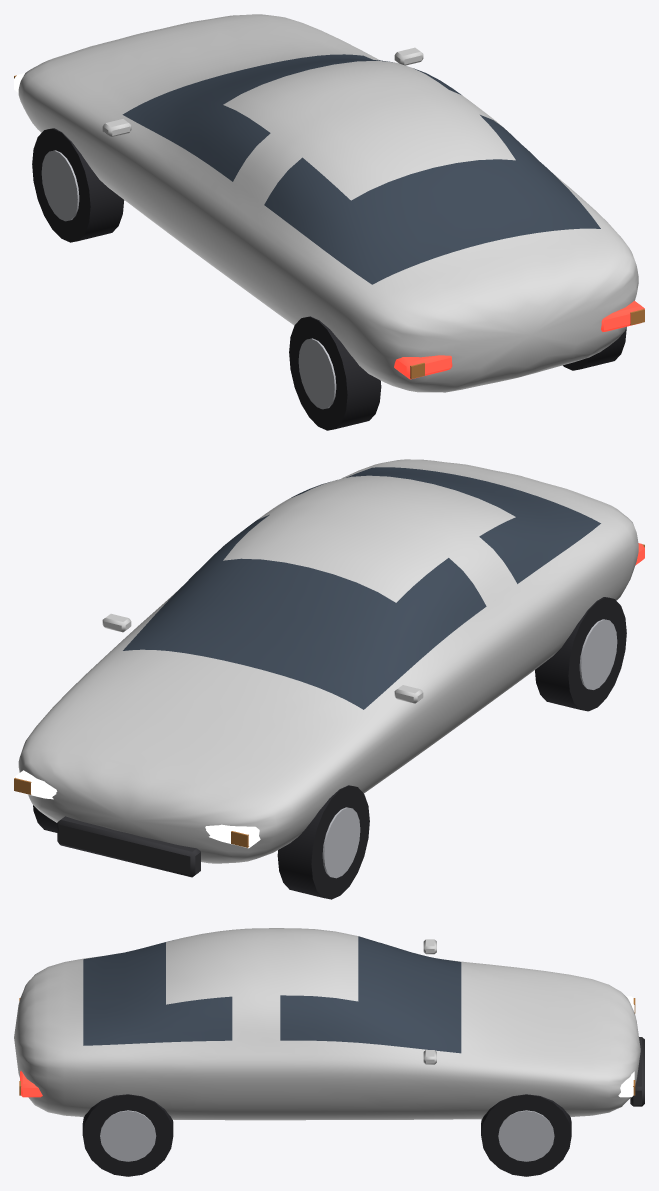
The model's file is auto_freq_car_lod1.glb.
The picture shows the model from 3 angles, top to bottom: view 1: azimuth 30°, elevation 25°; view 2: azimuth 150°, elevation 25°; view 3: azimuth 270°, elevation 25°; orthographic projection. The views are drawn at different scales.
Parts seen in each view (by area): view 1: Karosserie, Rad_HL, Rad_VL, Rad_HR; view 2: Karosserie, Rad_VL, Rad_HL; view 3: Karosserie, Rad_HR, Rad_VR.
Boxes of the visible parts, x1=… form: Karosserie: x1=14, y1=14, x2=644, y2=392; Rad_HL: x1=289, y1=316, x2=381, y2=430; Rad_VL: x1=32, y1=128, x2=124, y2=242; Rad_HR: x1=563, y1=327, x2=626, y2=370; Karosserie: x1=14, y1=459, x2=644, y2=877; Rad_VL: x1=277, y1=785, x2=369, y2=899; Rad_HL: x1=535, y1=597, x2=626, y2=711; Karosserie: x1=14, y1=928, x2=644, y2=1120; Rad_HR: x1=82, y1=1094, x2=173, y2=1176; Rad_VR: x1=481, y1=1094, x2=571, y2=1176.
Bounding box in the file's own units: 1.93 × 1.32 × 4.32.
